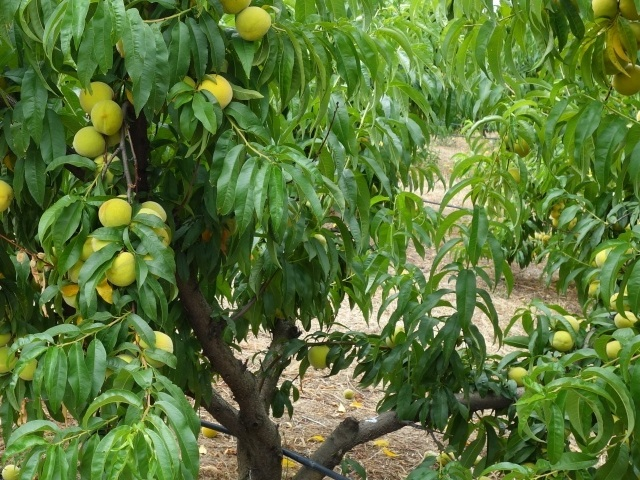peach: (193, 70, 235, 114), (137, 329, 179, 370), (77, 75, 118, 116), (233, 4, 277, 42), (103, 249, 142, 289), (97, 194, 134, 234), (69, 123, 108, 160), (89, 148, 128, 185), (90, 97, 126, 137), (12, 354, 43, 384), (306, 340, 334, 373), (544, 325, 577, 353), (605, 47, 634, 78), (62, 251, 90, 281), (74, 235, 102, 262), (610, 306, 639, 332), (505, 362, 531, 388), (608, 288, 634, 314), (216, 1, 254, 18)
